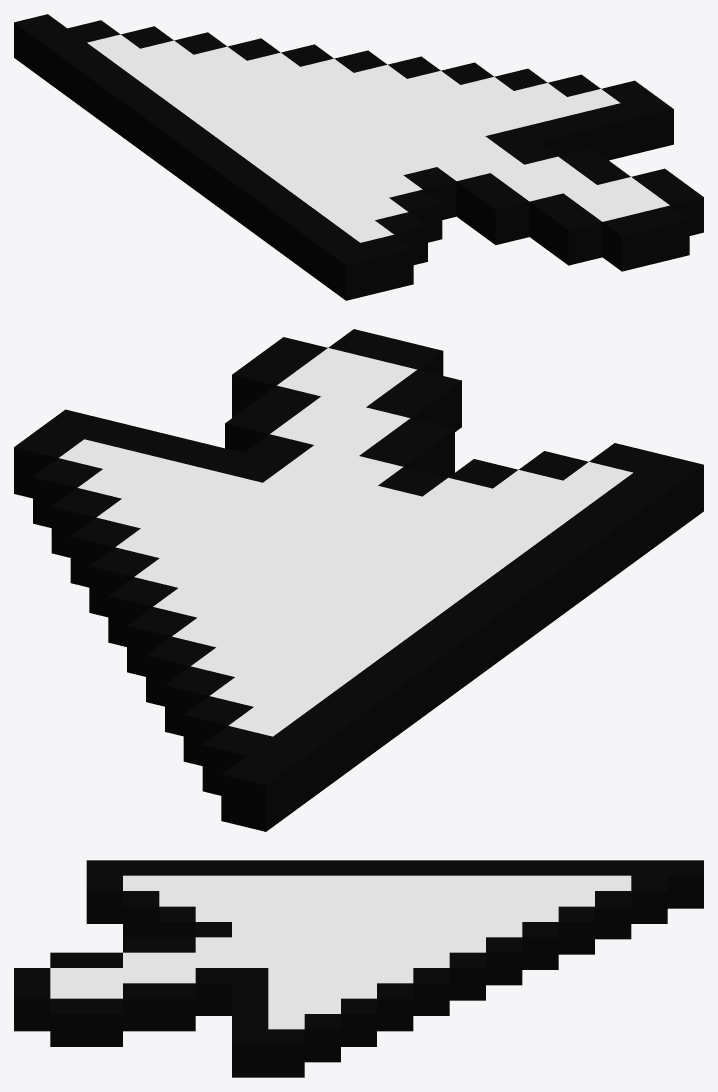
File: Cursor.fbx
3 views of the same model, one above another, from view 1: azimuth 30°, elevation 25°; view 2: azimuth 150°, elevation 25°; view 3: azimuth 270°, elevation 25° (orthographic). The views are drawn at different scales.
Visible parts, largest first — view 1: Cursor; view 2: Cursor; view 3: Cursor.
Part boxes in pixels (<box>): Cursor: <box>14,14,703,300</box>; Cursor: <box>14,329,703,831</box>; Cursor: <box>14,860,703,1077</box>.
Size of the model in its own units: 9.96 by 0.8298 by 15.77.
